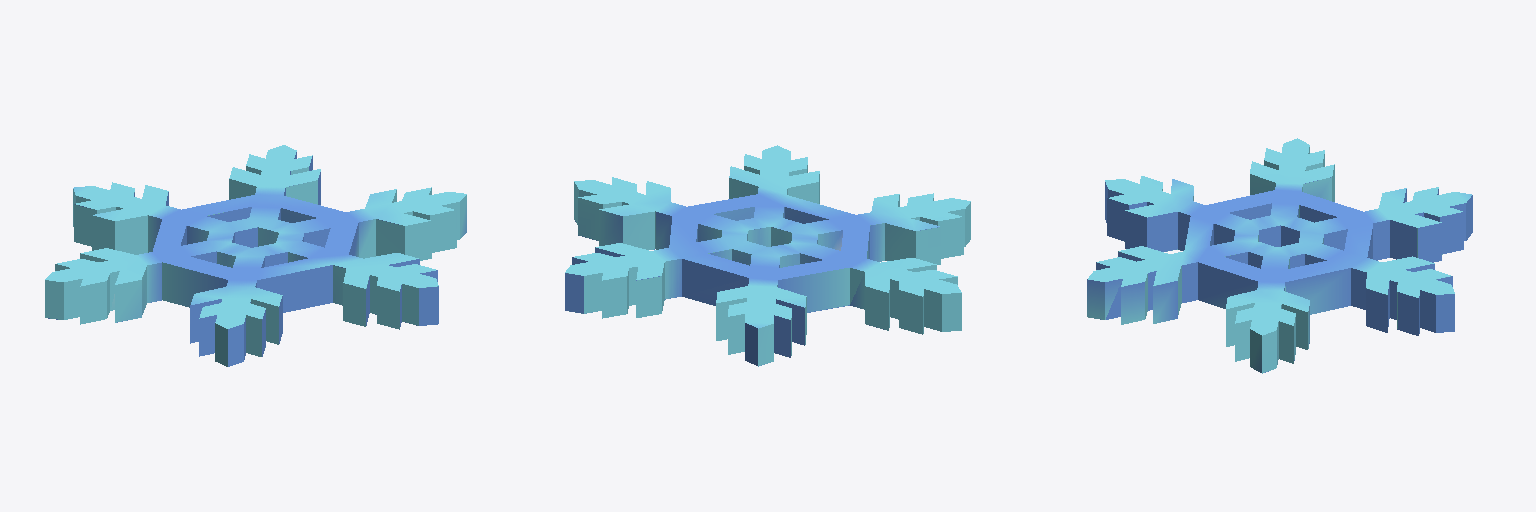
3 views of the same model, side by side, from view 1: azimuth 30°, elevation 25°; view 2: azimuth 150°, elevation 25°; view 3: azimuth 270°, elevation 25° (orthographic).
Parts seen in each view (by area): view 1: Snowflakesat; view 2: Snowflakesat; view 3: Snowflakesat.
Part boxes in pixels (x1,y1,x2,y2): Snowflakesat: (45,145,466,366); Snowflakesat: (565,145,970,366); Snowflakesat: (1087,138,1472,373).
Size of the model in its own units: 0.6308 by 0.0566 by 0.5197.
1 materials, 1 textured.